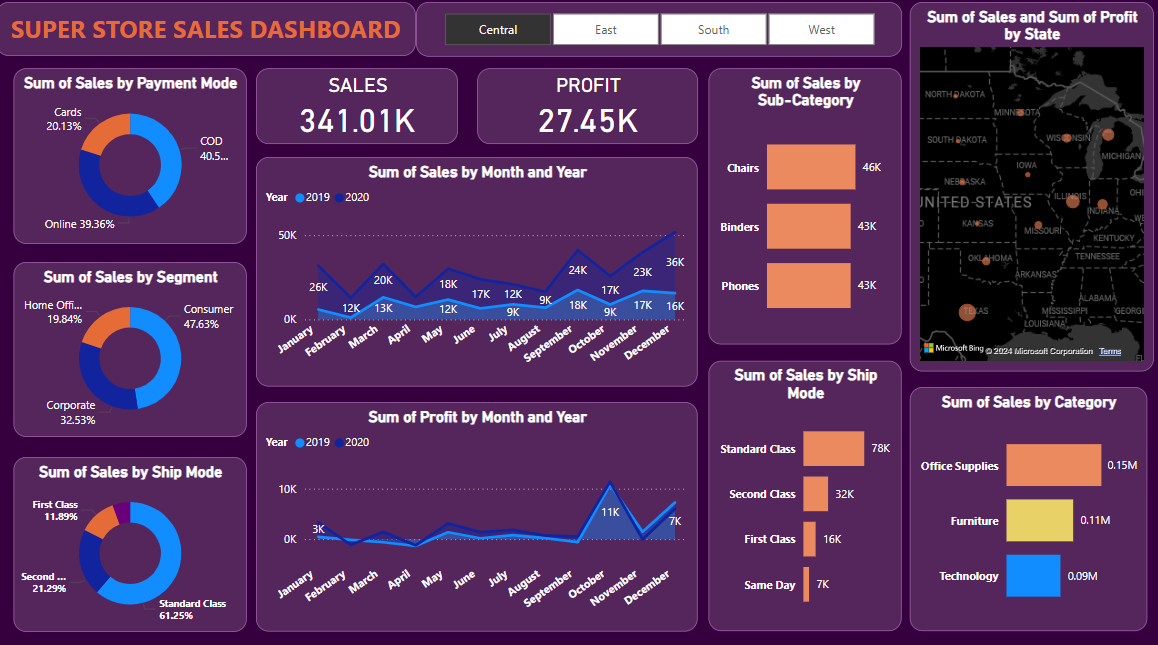

The dashboard page shown, as its layout file describes it:
{"tool":"powerbi","page":{"name":"Page 1","canvas":[1280,720],"ordinal":0},"visuals":[{"type":"clusteredBarChart","fields":{"Category":["Sheet1.Category"],"Y":["Sum(Sheet1.Sales)"]},"box":[1003.8,428.3,260.6,267.8],"z":0},{"type":"clusteredBarChart","fields":{"Category":["Sheet1.Sub-Category"],"Y":["Sum(Sheet1.Sales)"]},"box":[781.8,78.4,212.3,302.8],"z":1000},{"type":"clusteredBarChart","fields":{"Category":["Sheet1.Ship Mode"],"Y":["Sum(Sheet1.Sales)"]},"box":[781.8,399.3,212.3,296.8],"z":2000},{"type":"stackedAreaChart","fields":{"Y":["Sum(Sheet1.Sales)"],"Category":["Sheet1.Order Date.Variation.Date Hierarchy.Month","Sheet1.Order Date.Variation.Date Hierarchy.Day"],"Series":["Sheet1.Order Date.Variation.Date Hierarchy.Year"]},"box":[285.9,176.1,485,252.1],"z":3000},{"type":"stackedAreaChart","fields":{"Category":["Sheet1.Order Date.Variation.Date Hierarchy.Month","Sheet1.Order Date.Variation.Date Hierarchy.Day"],"Series":["Sheet1.Order Date.Variation.Date Hierarchy.Year"],"Y":["Sum(Sheet1.Profit)"]},"box":[285.9,444,485,252.1],"z":4000},{"type":"map","fields":{"Category":["Sheet1.State"],"Size":["Sum(Sheet1.Sales)"]},"box":[1003.8,6,267.8,405.4],"z":5000},{"type":"donutChart","fields":{"Category":["Sheet1.Segment"],"Y":["Sum(Sheet1.Sales)"]},"box":[19.3,290.8,255.8,191.8],"z":6000},{"type":"donutChart","fields":{"Category":["Sheet1.Payment Mode"],"Y":["Sum(Sheet1.Sales)"]},"box":[19.3,78.4,255.8,193],"z":7000},{"type":"slicer","fields":{"Values":["Sheet1.Region"]},"box":[460.9,6,533.2,60.3],"z":8000},{"type":"textbox","box":[0,6,460.9,59.1],"z":9000},{"type":"card","title":"SALES","fields":{"Values":["Sum(Sheet1.Sales)"]},"box":[285.9,78.4,222,83.2],"z":10000},{"type":"card","title":"PROFIT","fields":{"Values":["Sum(Sheet1.Profit)"]},"box":[528.4,78.4,242.5,83.2],"z":11000},{"type":"donutChart","fields":{"Category":["Sheet1.Ship Mode"],"Y":["Sum(Sheet1.Sales)"]},"box":[19.3,504.3,255.8,191.8],"z":12000}]}

Visuals, with their boxes in screenshot pixels (x1, y1, x2, y2), scaled from the page's 1280x720 canvas onto the 1158x645 screenshot:
clusteredBarChart - Sheet1.Category x Sum(Sheet1.Sales): bbox(908, 384, 1144, 624)
clusteredBarChart - Sheet1.Sub-Category x Sum(Sheet1.Sales): bbox(707, 70, 899, 341)
clusteredBarChart - Sheet1.Ship Mode x Sum(Sheet1.Sales): bbox(707, 358, 899, 624)
stackedAreaChart - Sum(Sheet1.Sales) x Sheet1.Order Date.Variation.Date Hierarchy.Month: bbox(259, 158, 697, 384)
stackedAreaChart - Sheet1.Order Date.Variation.Date Hierarchy.Month x Sheet1.Order Date.Variation.Date Hierarchy.Day: bbox(259, 398, 697, 624)
map - Sheet1.State x Sum(Sheet1.Sales): bbox(908, 5, 1150, 369)
donutChart - Sheet1.Segment x Sum(Sheet1.Sales): bbox(17, 261, 249, 432)
donutChart - Sheet1.Payment Mode x Sum(Sheet1.Sales): bbox(17, 70, 249, 243)
slicer - Sheet1.Region: bbox(417, 5, 899, 59)
textbox: bbox(0, 5, 417, 58)
"SALES" card: bbox(259, 70, 459, 145)
"PROFIT" card: bbox(478, 70, 697, 145)
donutChart - Sheet1.Ship Mode x Sum(Sheet1.Sales): bbox(17, 452, 249, 624)
